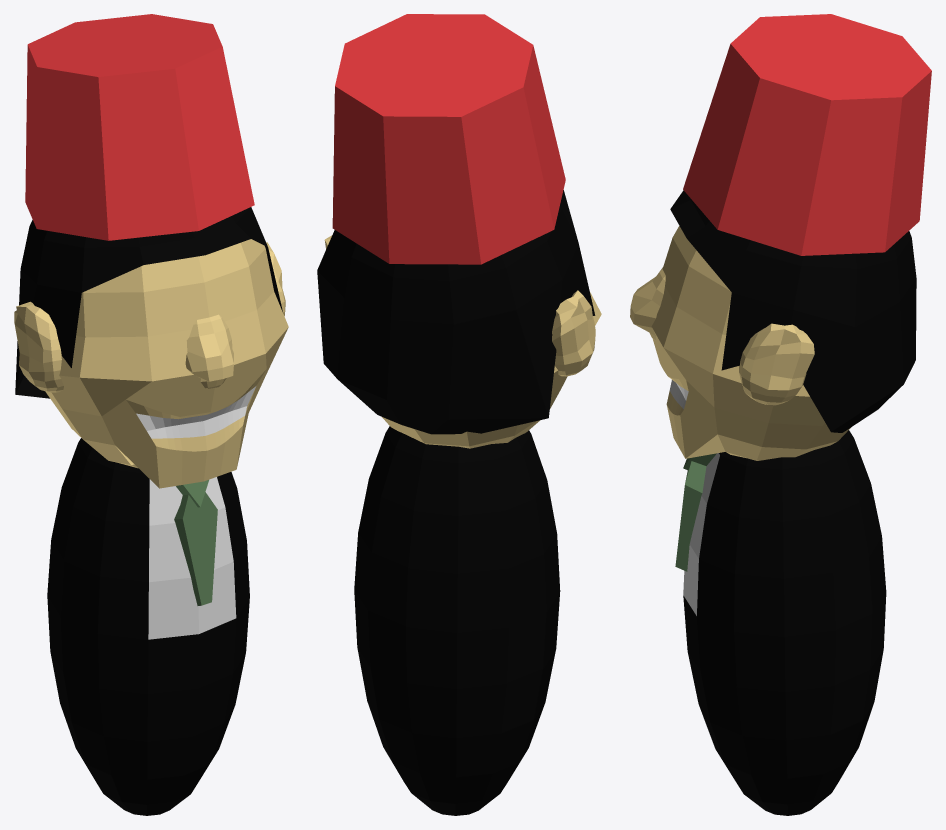
The model's file is kemalsunal.fbx.
The picture shows the model from 3 angles, left to right: view 1: azimuth 30°, elevation 25°; view 2: azimuth 150°, elevation 25°; view 3: azimuth 270°, elevation 25°; orthographic projection.
Parts seen in each view (by area): view 1: body, Cylinder, head, hair, ear, tie.001, nose; view 2: body, Cylinder, hair, ear, head; view 3: body, Cylinder, hair, head, ear.001, tie.001, nose.
Boxes of the visible parts, <box> form: body: <box>47,438,249,815</box>; Cylinder: <box>25,14,254,240</box>; head: <box>45,239,288,488</box>; hair: <box>15,207,282,398</box>; ear: <box>14,301,63,392</box>; tie.001: <box>174,492,217,605</box>; nose: <box>185,314,233,388</box>; body: <box>354,426,560,815</box>; Cylinder: <box>332,14,565,264</box>; hair: <box>317,190,595,434</box>; ear: <box>552,290,595,376</box>; head: <box>382,292,601,448</box>; body: <box>683,430,886,815</box>; Cylinder: <box>683,14,931,255</box>; hair: <box>670,190,916,432</box>; head: <box>651,226,851,460</box>; ear.001: <box>738,323,814,405</box>; tie.001: <box>675,461,706,571</box>; nose: <box>630,267,665,340</box>.
Size of the model in its own units: 252 by 726 by 259.
